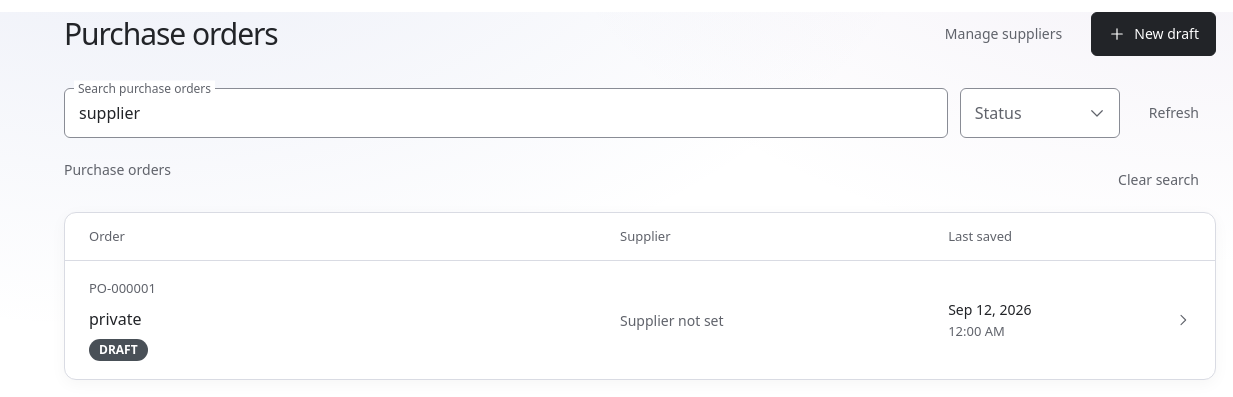
Scenario: clears private purchases when refreshing loses access: 401
The image size is (1233, 397).
// WHEN refreshing reports an expired session or revoked authority.
Click the button "Refresh" at (1174, 113), box top-left (1132, 88), bottom-right (1216, 138)
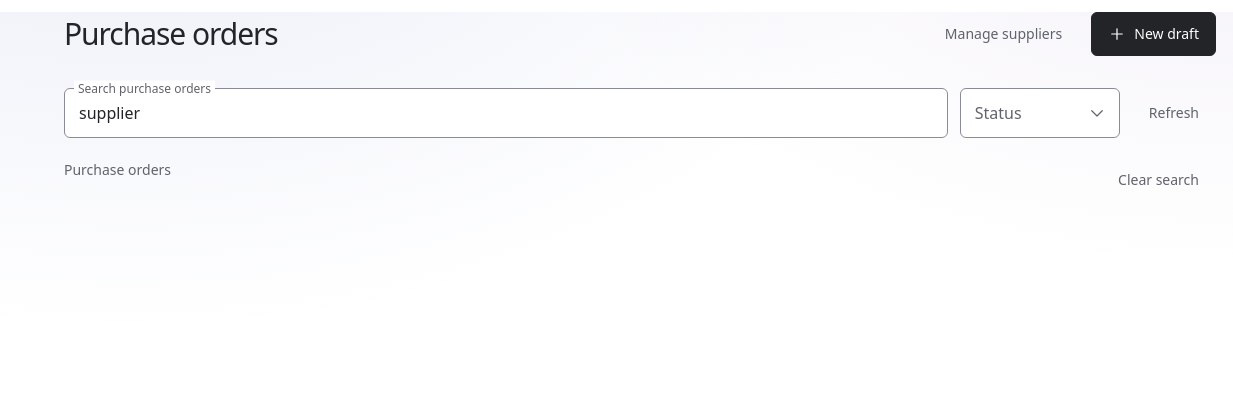
Check: the link "private" is gone
